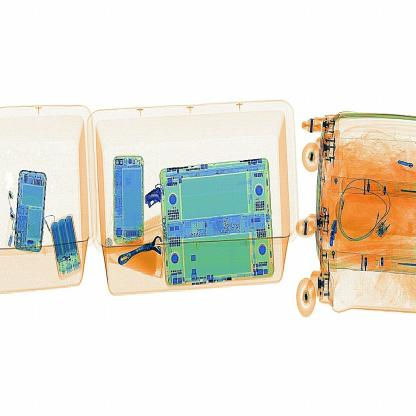knife: (143, 181, 170, 216)
